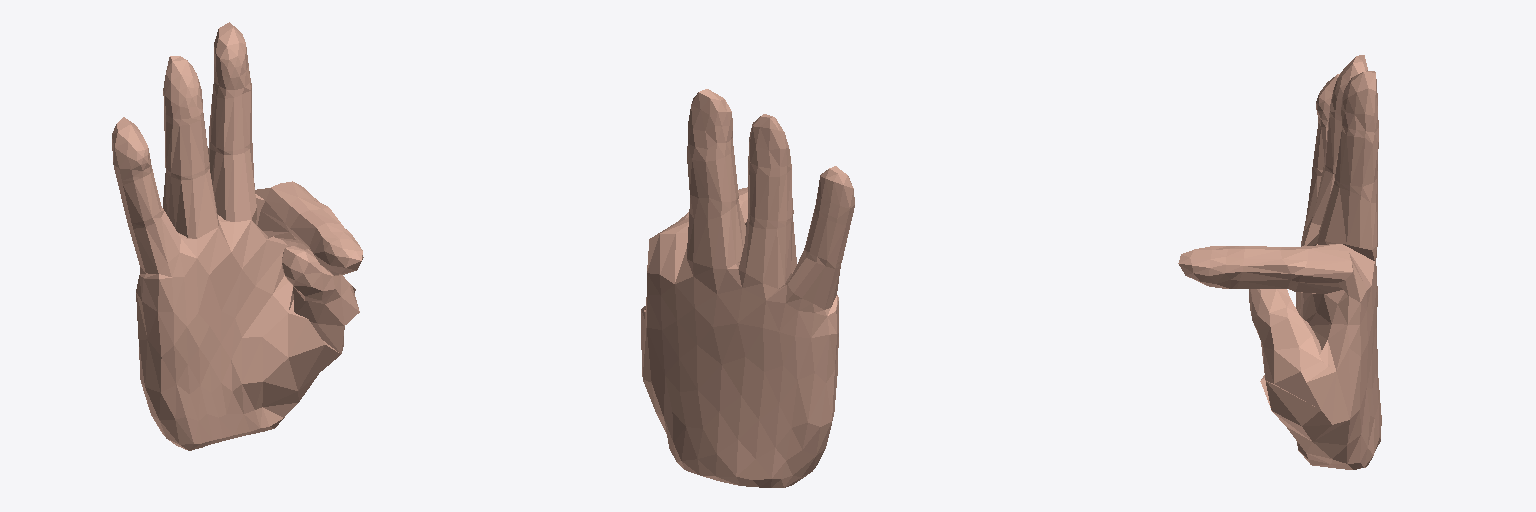
The model's file is MAO_T.obj.
3 views of the same model, side by side, from view 1: azimuth 30°, elevation 25°; view 2: azimuth 150°, elevation 25°; view 3: azimuth 270°, elevation 25° (orthographic).
Parts seen in each view (by area): view 1: mao_dir:mao_dir; view 2: mao_dir:mao_dir; view 3: mao_dir:mao_dir.
Part boxes in pixels (bbox=[...]): mao_dir:mao_dir: bbox=[112, 22, 363, 450]; mao_dir:mao_dir: bbox=[641, 89, 854, 487]; mao_dir:mao_dir: bbox=[1178, 55, 1381, 469].
Bounding box in the file's own units: 149 × 243 × 116.